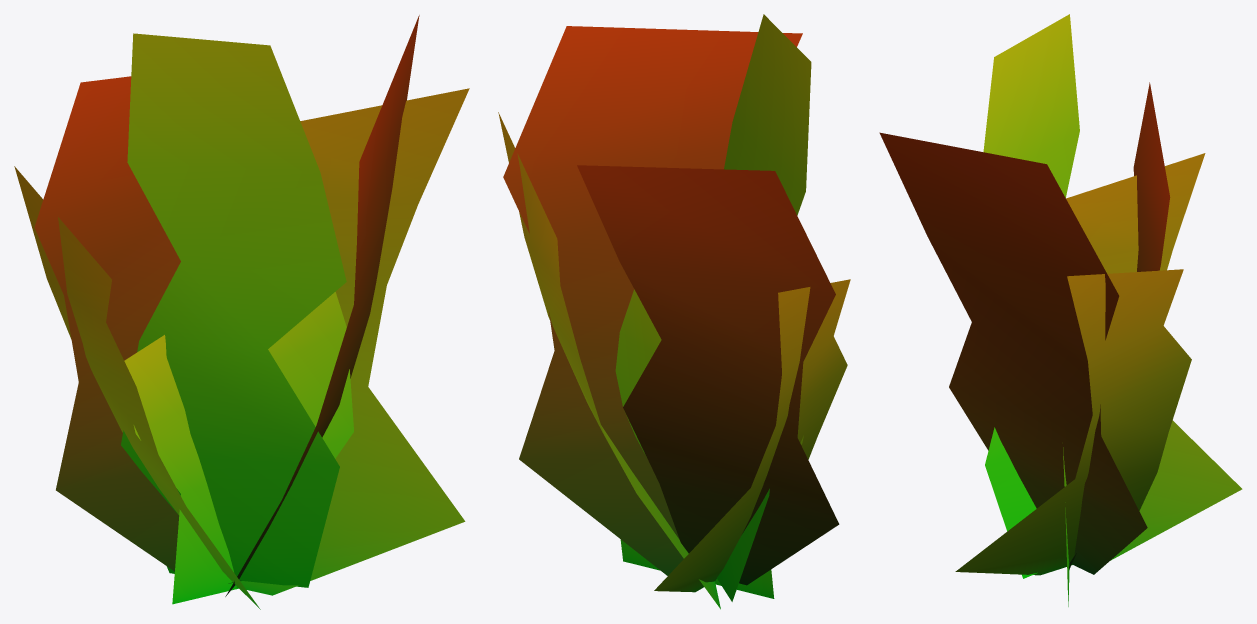
File: Var8Hi39.fbx
The picture shows the model from 3 angles, left to right: view 1: azimuth 30°, elevation 25°; view 2: azimuth 150°, elevation 25°; view 3: azimuth 270°, elevation 25°; orthographic projection. The views are drawn at different scales.
Visible parts, largest first — view 1: bend1; view 2: bend1; view 3: bend1.
Part boxes in pixels (x1,y1,x2,y2): bend1: (14,15,469,609); bend1: (498,14,850,609); bend1: (879,14,1242,606).
Bounding box in the file's own units: 1.27 × 1.77 × 1.14.
